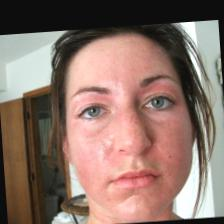Oily: (69, 44, 189, 212)
